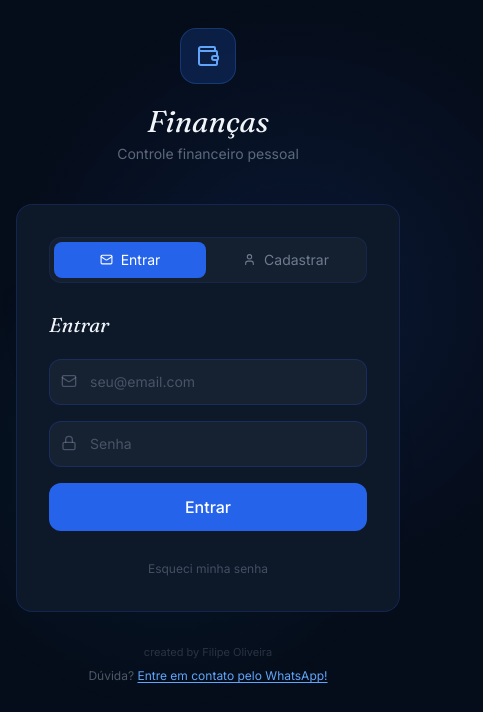
Auth › cadastro com token › sem sessão no retorno (confirmação de email ligada) avisa e volta ao login
Click the button "Cadastrar": (286, 260) x1=210 y1=242 x2=362 y2=278
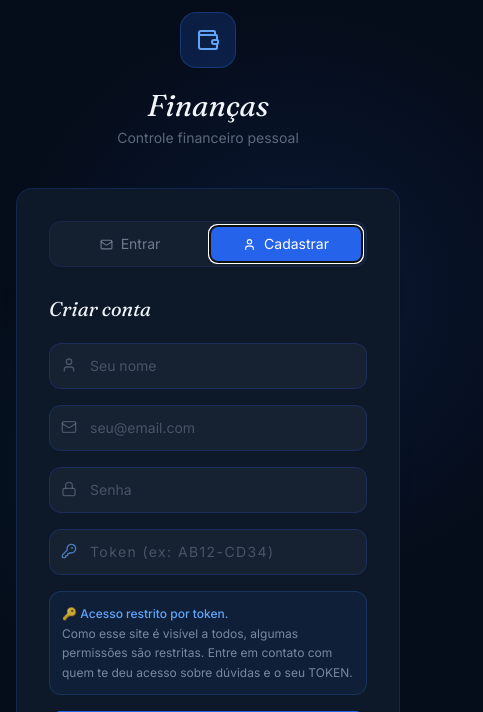
In the field with placeholder "Seu nome": (208, 366) x1=49 y1=343 x2=367 y2=389, type "Teste"
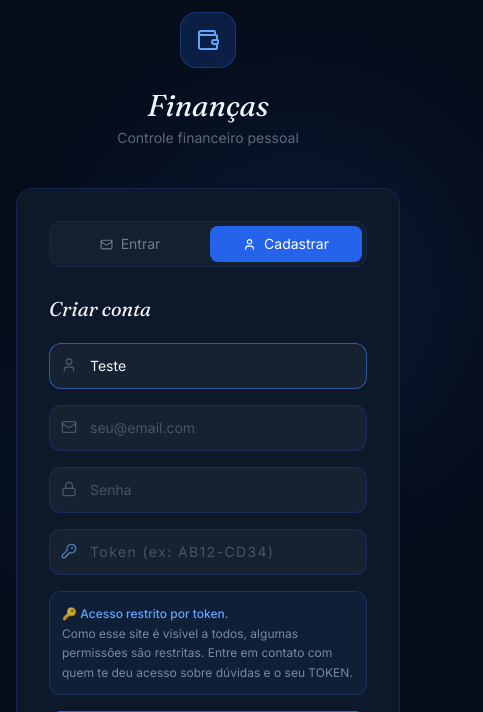
In the field with placeholder "seu@email.com": (208, 428) x1=49 y1=405 x2=367 y2=451, type "teste@example.com"
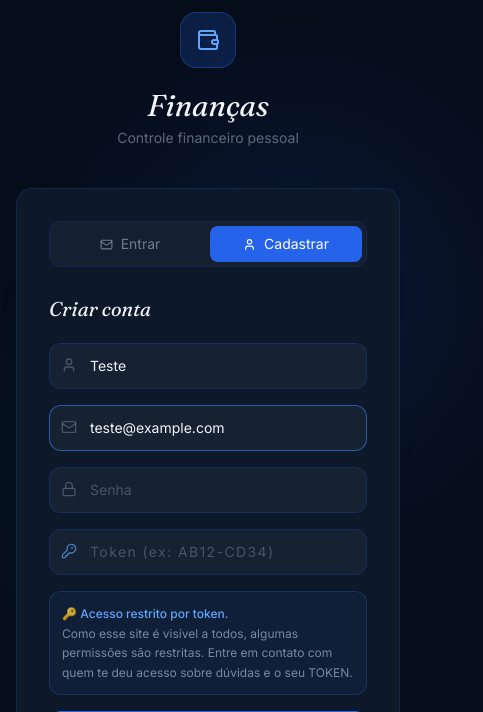
In the password field with placeholder "Senha": (208, 490) x1=49 y1=467 x2=367 y2=513, type "senha-teste"
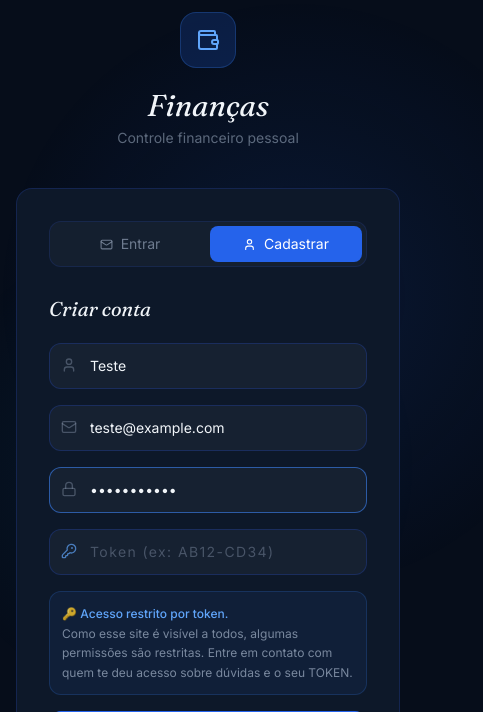
In the field with placeholder "Token (ex: AB12-CD34)": (208, 552) x1=49 y1=529 x2=367 y2=575, type "ab12-cd34"
(page scrolled)
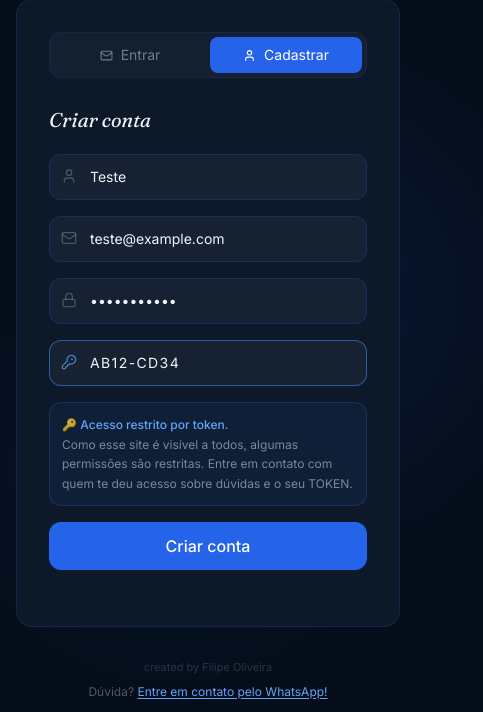
Click the button "Criar conta": (208, 546) x1=49 y1=522 x2=367 y2=570
(page scrolled)
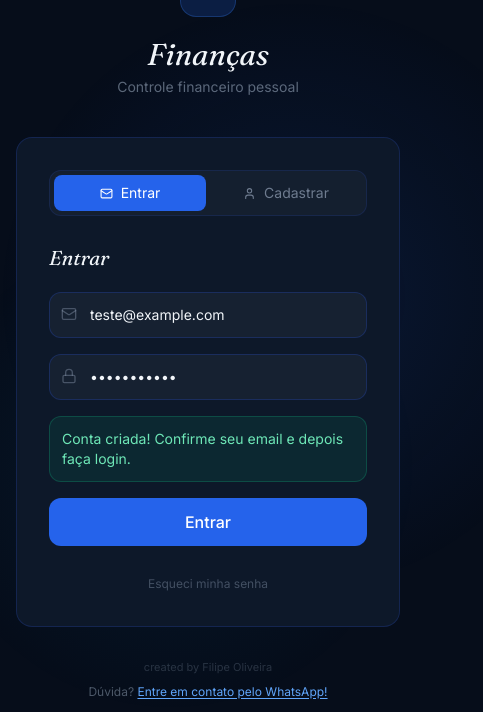
Expected: the text "Conta criada! Confirme seu email e depois faça login." is shown, x1=49 y1=416 x2=367 y2=482
Expected: the heading "Entrar" is shown, x1=49 y1=245 x2=110 y2=270
